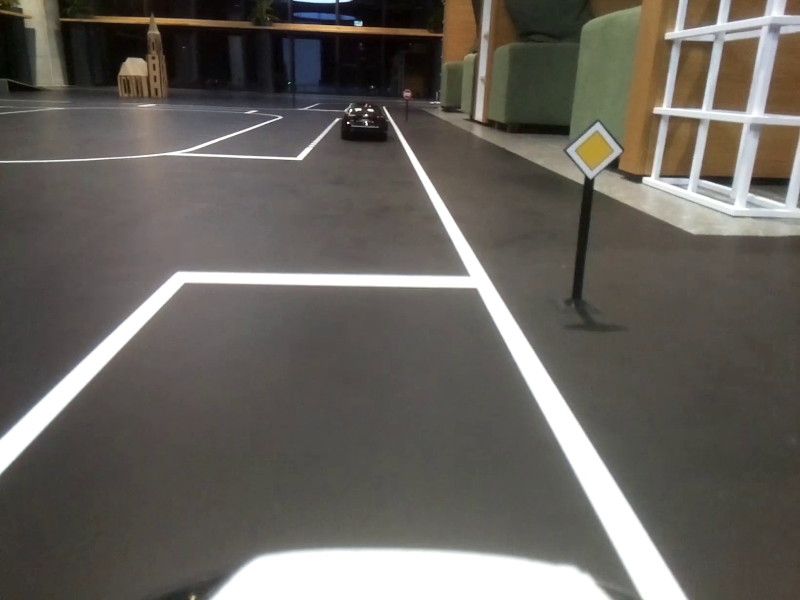priority: (562, 118, 623, 185)
